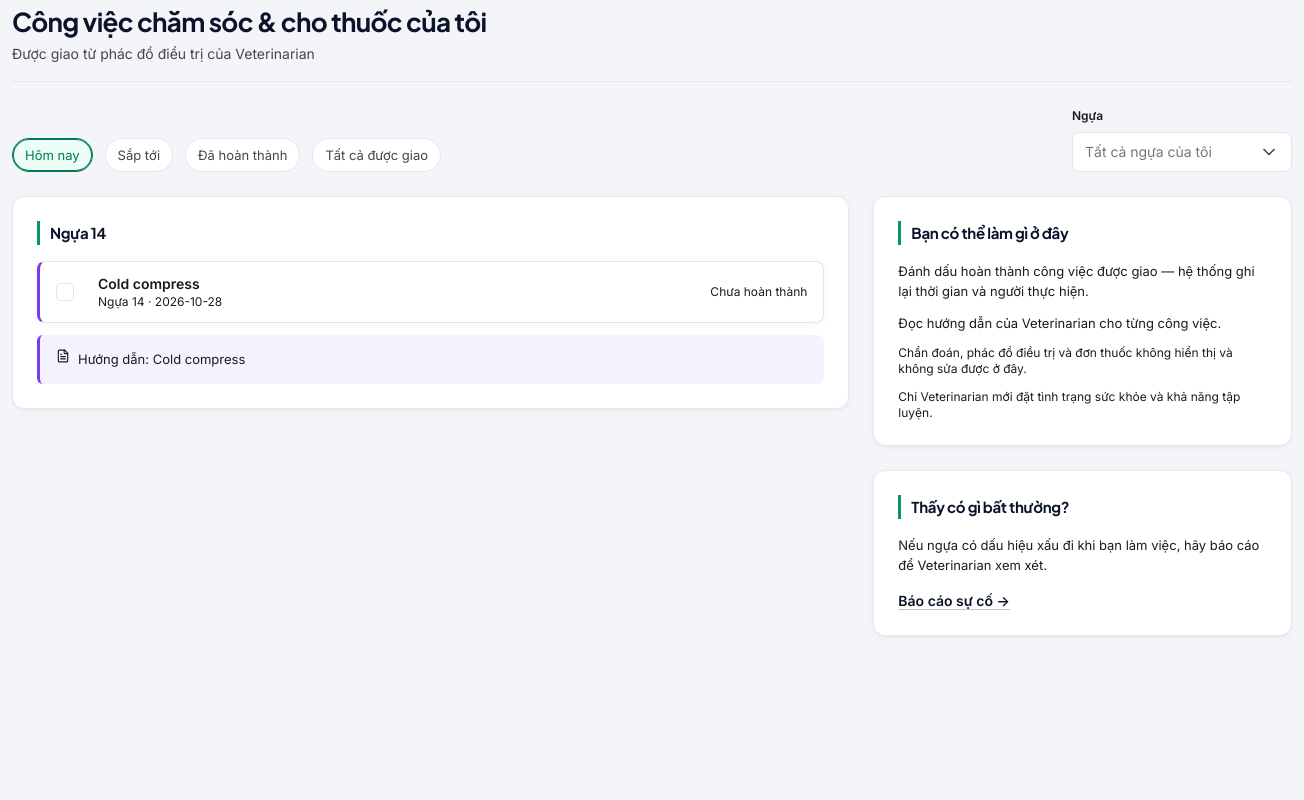
it: confirms completion only after success, locks duplicate submits and rereads assigned tasks
Click the checkbox named "Hoàn thành công việc 12" at (65,292), box [56,284,74,302]
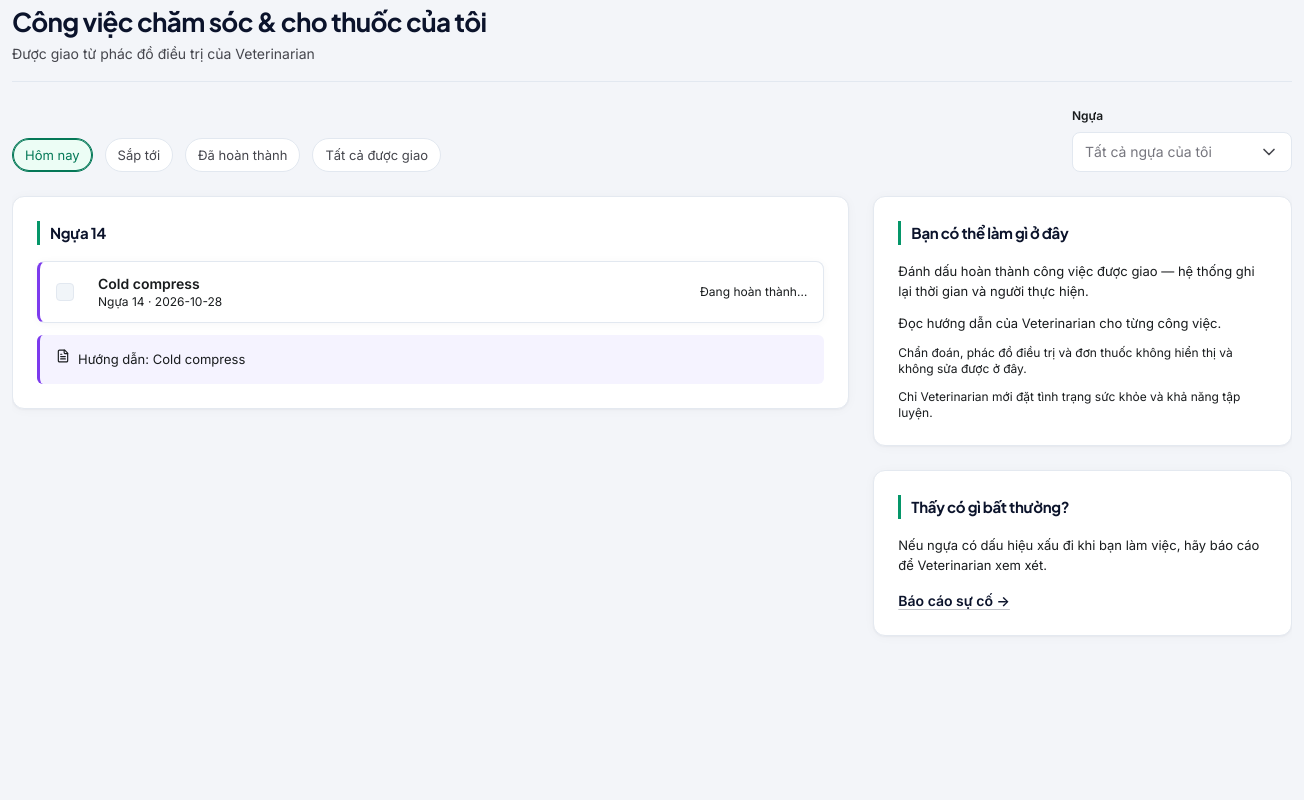
Click the checkbox named "Hoàn thành công việc 12" at (65,292), box [56,284,74,302]
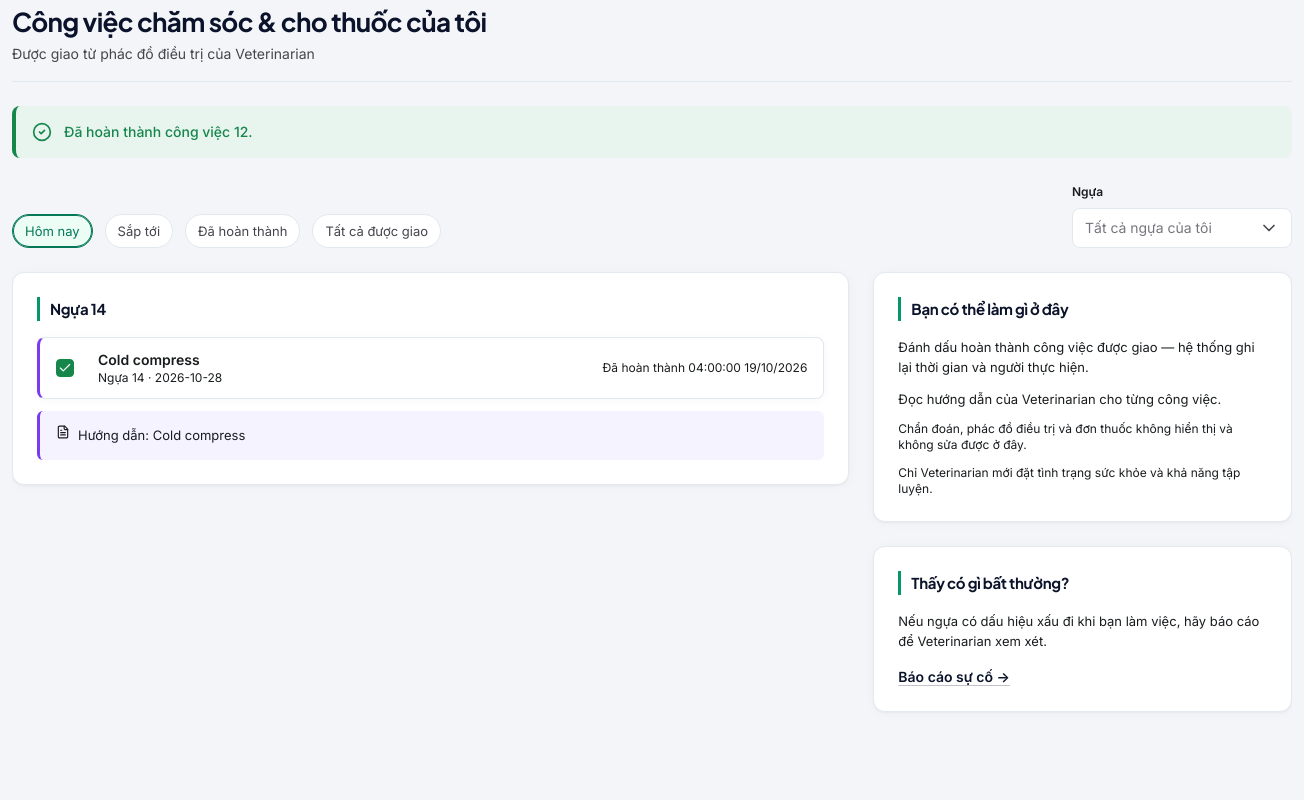
Expected: the checkbox is disabled, [56,360,74,378]
Expected: the checkbox named "Hoàn thành công việc 12" is checked, [56,360,74,378]
